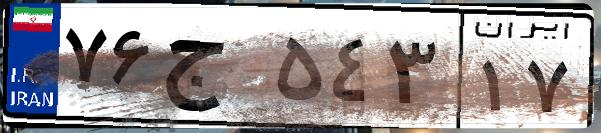1: (475, 38, 525, 113)
3: (385, 28, 445, 110)
4: (330, 28, 385, 110)
5: (270, 28, 330, 110)
6: (110, 28, 158, 98)
7: (57, 26, 110, 100), (525, 38, 570, 115)
ج: (158, 20, 270, 120)
